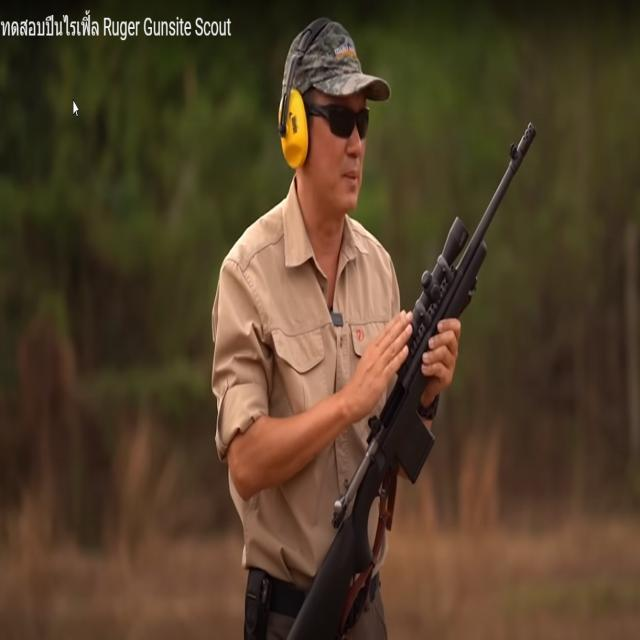rifle: (275, 103, 543, 640)
